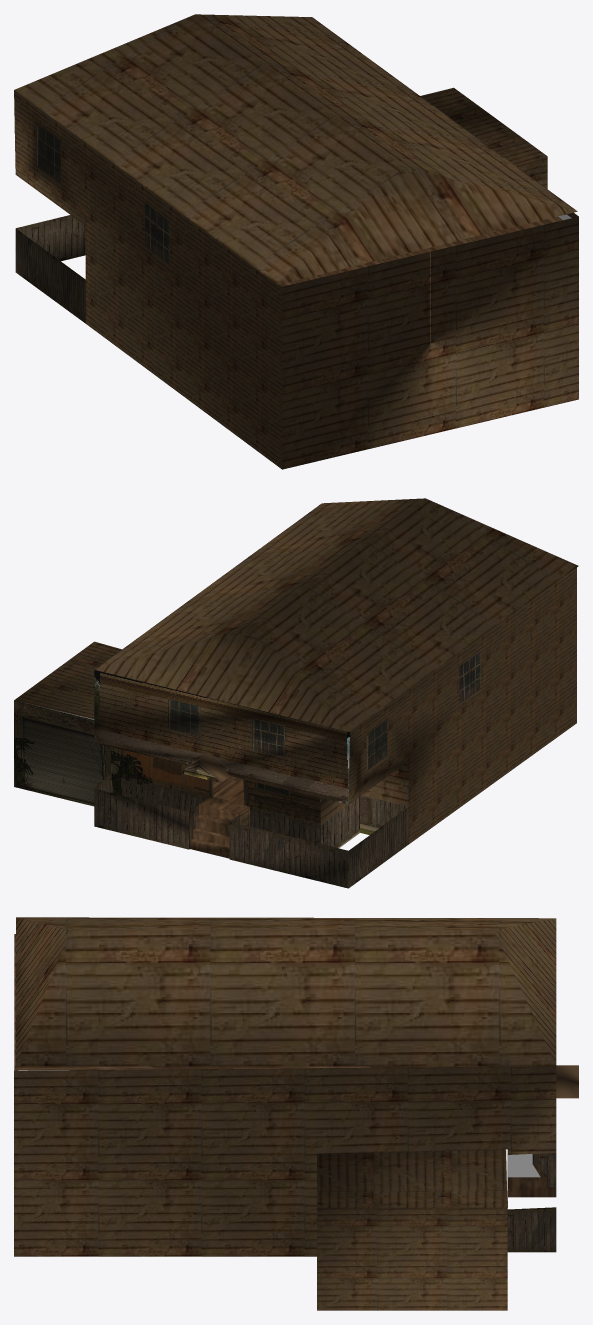
The model's file is house6.obj.
3 views of the same model, one above another, from view 1: azimuth 30°, elevation 25°; view 2: azimuth 150°, elevation 25°; view 3: azimuth 270°, elevation 25° (orthographic). The views are drawn at different scales.
Visible parts, largest first — view 1: MeshpolySurface83polySurface85polySurface89, MeshpolySurface84polySurface83polySurface87; view 2: MeshpolySurface83polySurface85polySurface89, MeshpolySurface86polySurface84polySurface83; view 3: MeshpolySurface83polySurface85polySurface89, MeshpolySurface84polySurface83polySurface87.
Part boxes in pixels (x1,y1,x2,y2): MeshpolySurface83polySurface85polySurface89: (14, 14, 578, 469); MeshpolySurface84polySurface83polySurface87: (279, 216, 562, 286); MeshpolySurface83polySurface85polySurface89: (14, 498, 578, 888); MeshpolySurface86polySurface84polySurface83: (213, 776, 347, 824); MeshpolySurface83polySurface85polySurface89: (14, 917, 578, 1310); MeshpolySurface84polySurface83polySurface87: (14, 934, 527, 1070).
Size of the model in its own units: 6.64 by 3.78 by 7.65.
